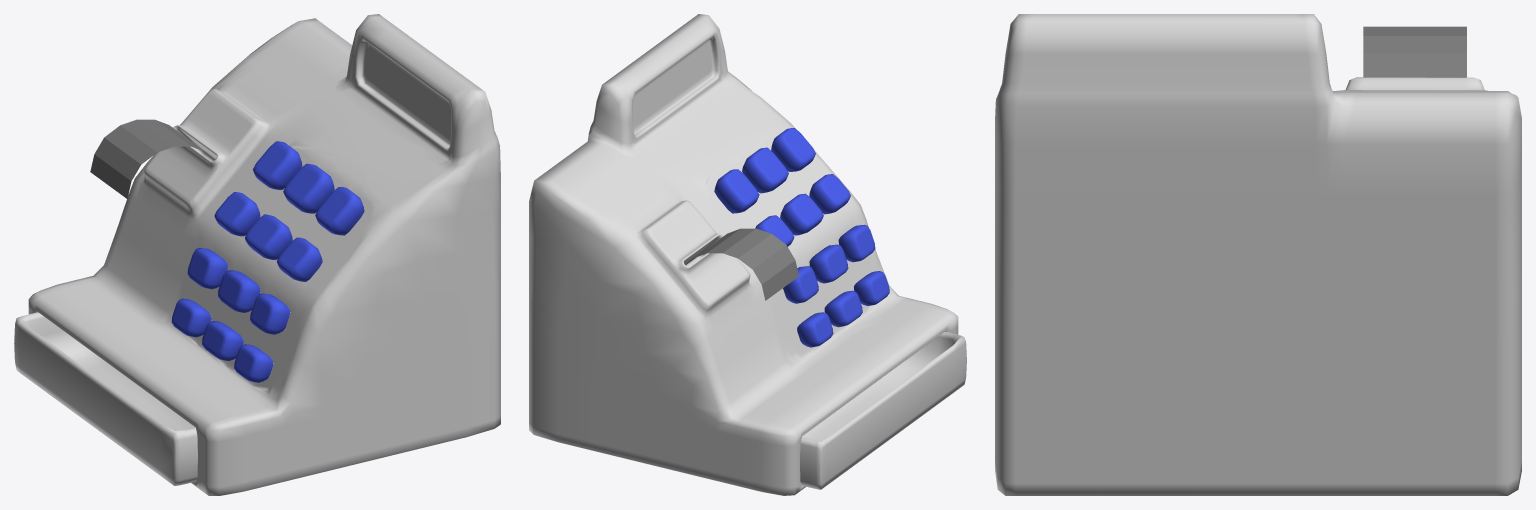
File: Cashier_Thing.fbx
3 views of the same model, side by side, from view 1: azimuth 30°, elevation 25°; view 2: azimuth 150°, elevation 25°; view 3: azimuth 270°, elevation 25° (orthographic). The views are drawn at different scales.
Parts seen in each view (by area): view 1: Plane001, Object001, Plane002; view 2: Plane001, Object001, Plane002; view 3: Plane001, Plane002.
Boxes of the visible parts, <box> form: Plane001: <box>14,14,500,495</box>; Object001: <box>171,141,364,382</box>; Plane002: <box>90,119,215,198</box>; Plane001: <box>529,14,966,495</box>; Object001: <box>714,128,889,347</box>; Plane002: <box>685,228,798,300</box>; Plane001: <box>995,14,1521,495</box>; Plane002: <box>1363,26,1466,77</box>.
Bounding box in the file's own units: 113 × 116 × 118.
